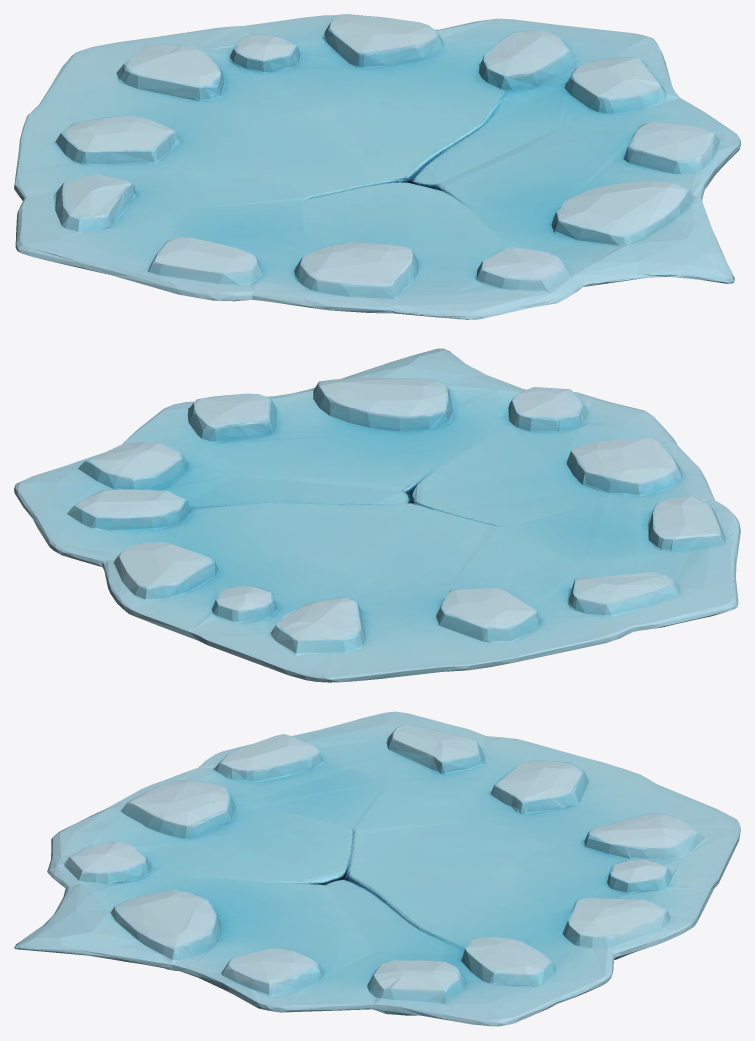
Rendered from oasis_pool.glb.
3 views of the same model, one above another, from view 1: azimuth 30°, elevation 25°; view 2: azimuth 150°, elevation 25°; view 3: azimuth 270°, elevation 25° (orthographic). The views are drawn at different scales.
Visible parts, largest first — view 1: world; view 2: world; view 3: world.
Boxes of the visible parts, <box> form: world: <box>14,14,740,319</box>; world: <box>14,348,740,682</box>; world: <box>14,711,740,1026</box>.
Bounding box in the file's own units: 0.9963 × 0.0492 × 0.9789.
1 material, 1 textured.
